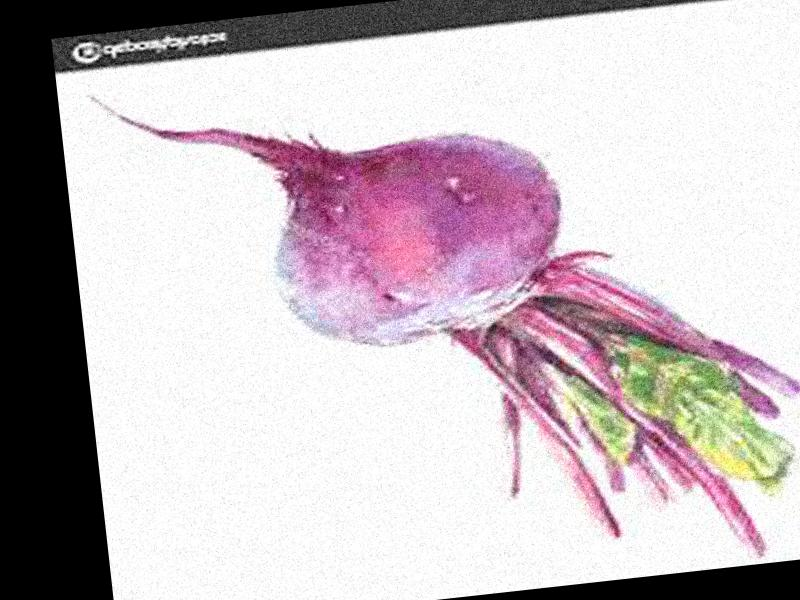Beet: (91, 22, 800, 600)
